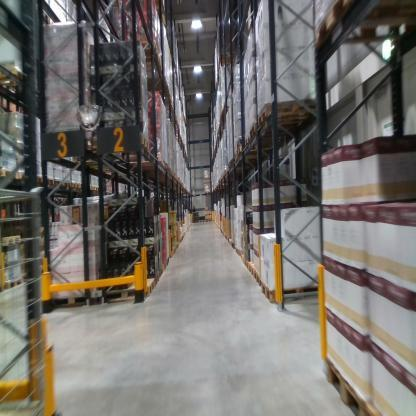pallets: (257, 94, 315, 136)
